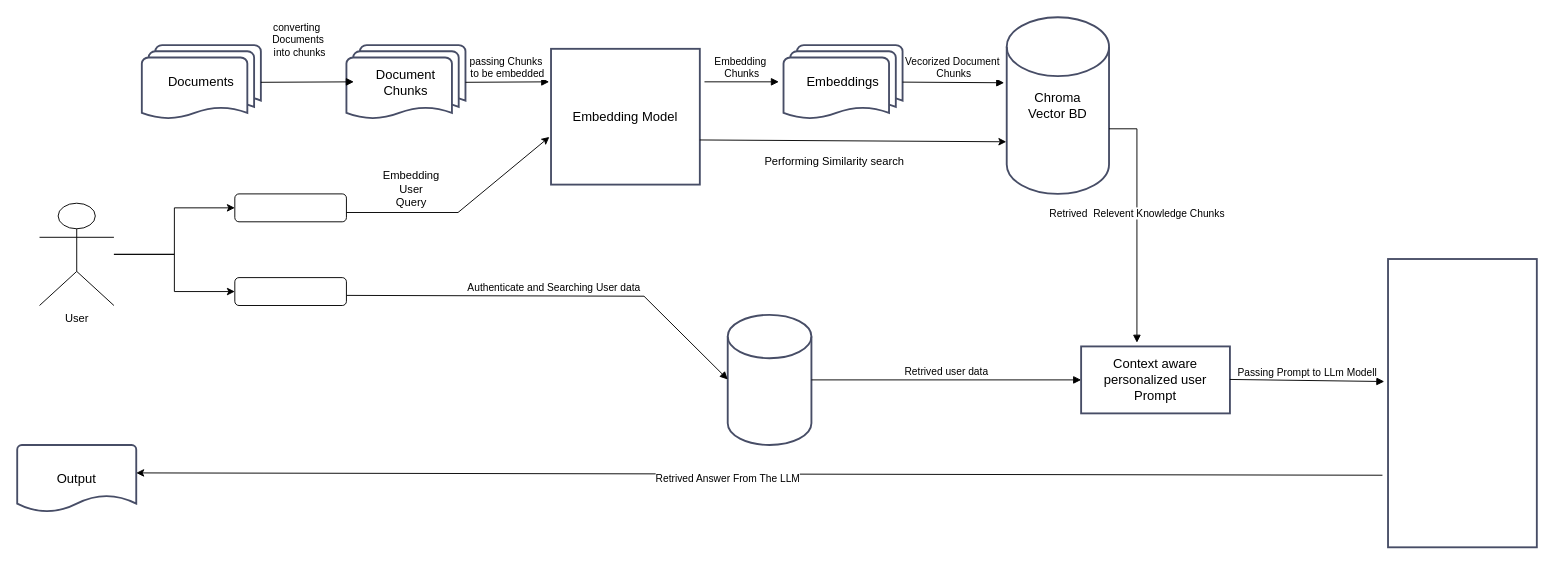
The diagram is 1553 pixels wide and 564 high, and some of its shapes have lost their labels. Each missing label, with the centre of its shape:
"LLM" belongs at point 1462,403.
"Mongo DB" belongs at point 769,379.
"User credentials" belongs at point 290,291.
"User Query" belongs at point 290,207.
